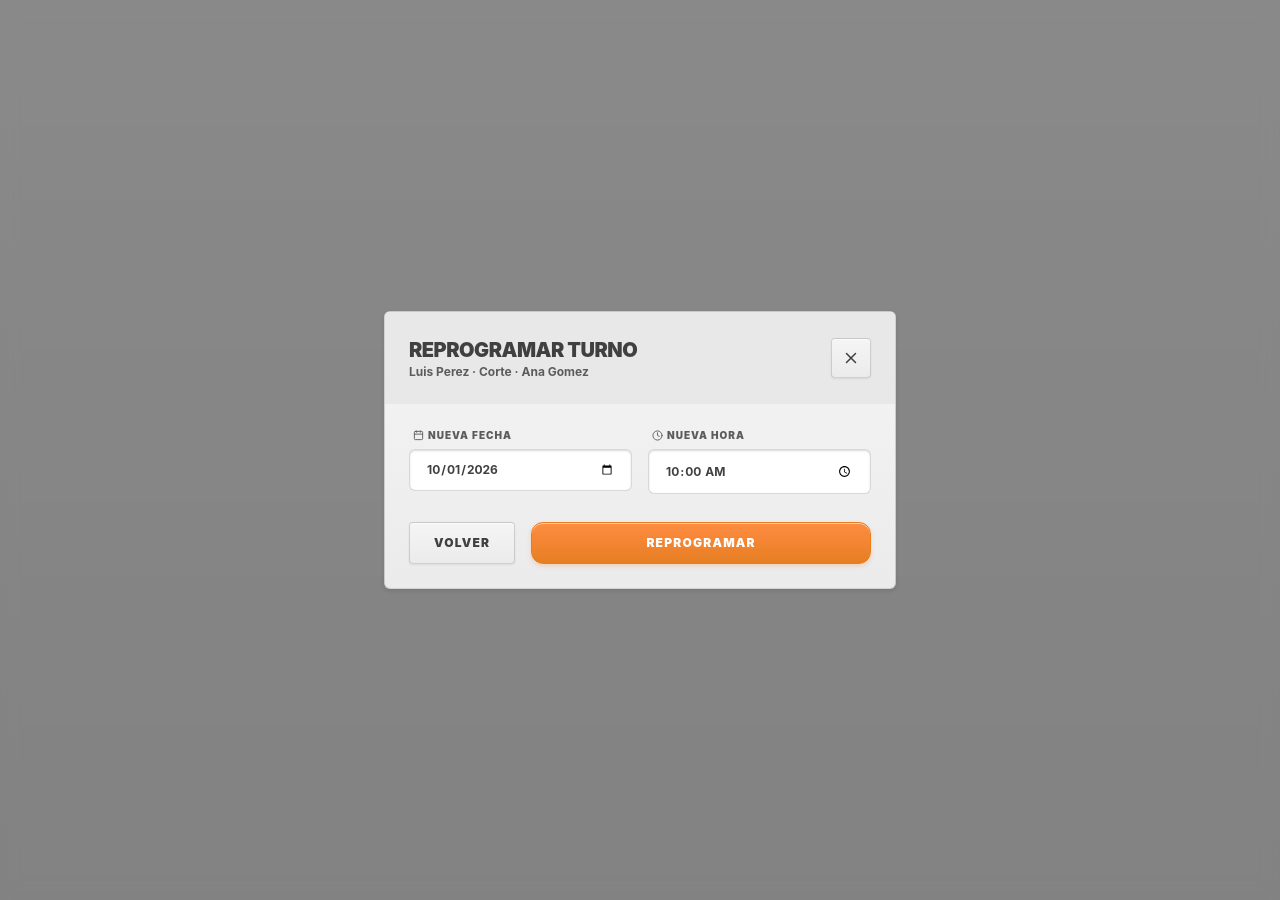
Test: RescheduleAppointmentDialog (FF-31) › OUT_OF_SCHEDULE al profesional solo le pide otro horario
The image size is (1280, 900).
Click the button "Reprogramar" at (701, 543), box top-left (531, 522), bottom-right (871, 564)
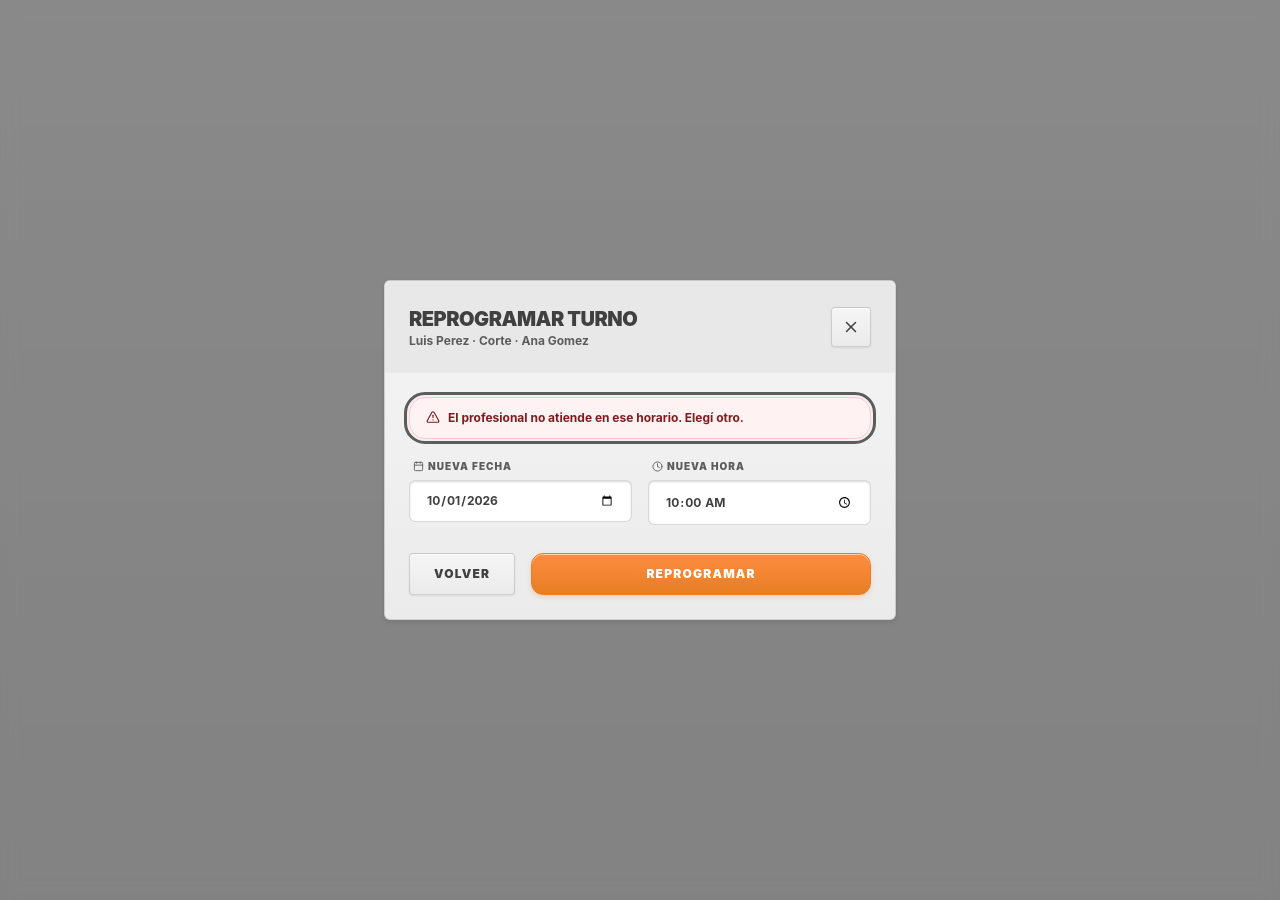
Expected: the message reads "El profesional no atiende en ese horario. Elegí otro.", top-left (448, 410), bottom-right (744, 425)
